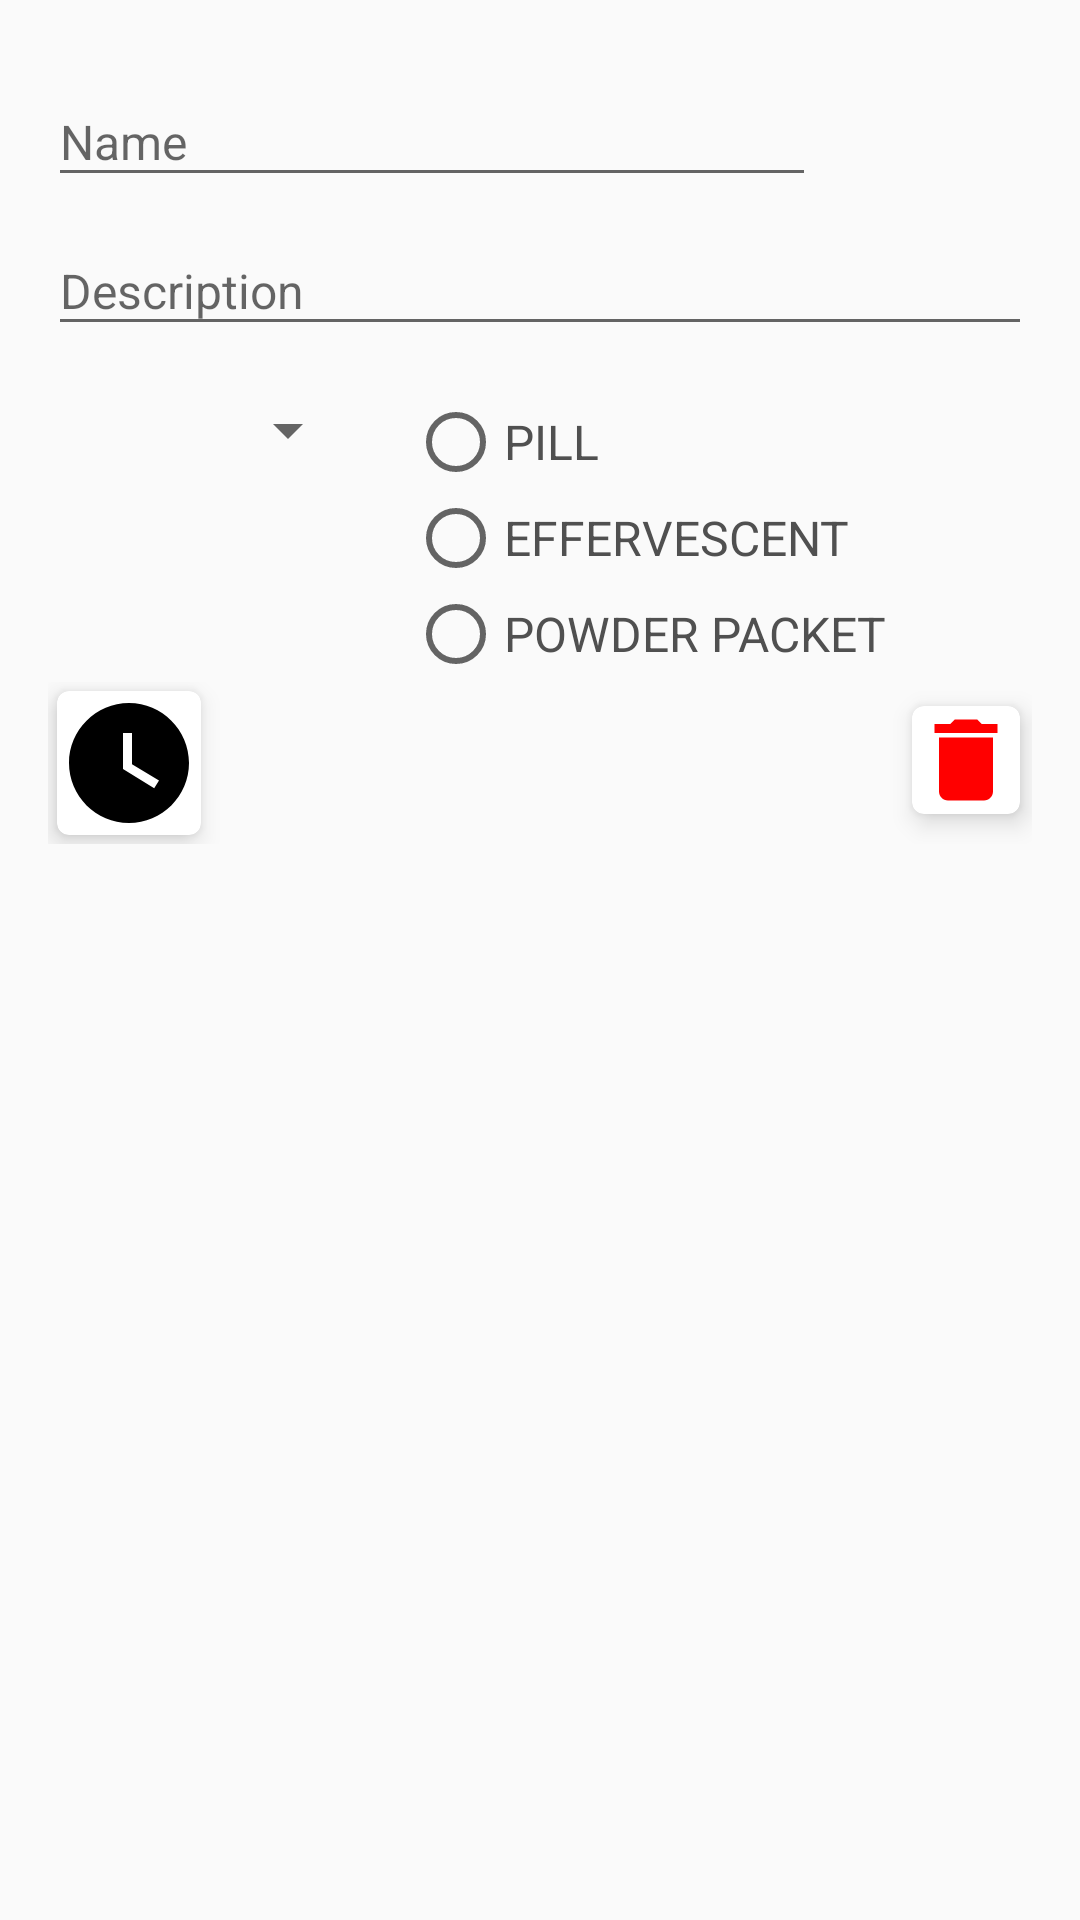

Named icons in this screenshot (1080×1920) and their bounding boxes, {"x1": x1, "y1": y1, "x2": x2, "y2": y2}:
delete: {"x1": 934, "y1": 719, "x2": 1020, "y2": 814}
watch later: {"x1": 57, "y1": 703, "x2": 189, "y2": 835}
